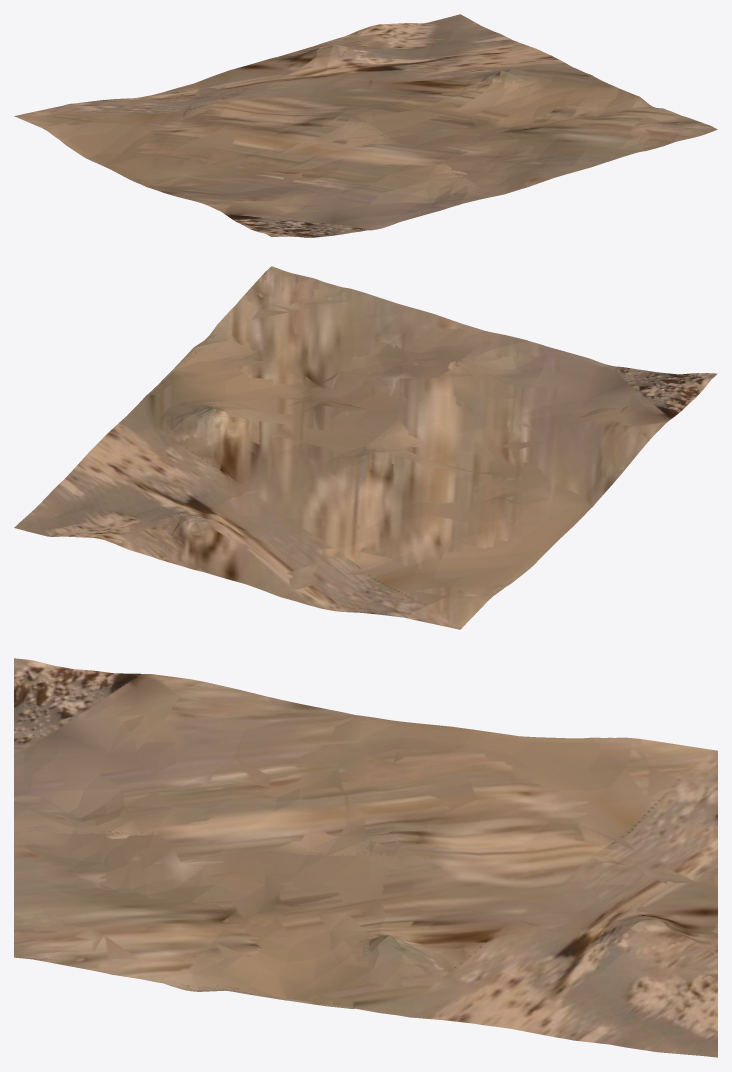
3 renders of one model, top to bottom at view 1: azimuth 30°, elevation 25°; view 2: azimuth 150°, elevation 25°; view 3: azimuth 270°, elevation 25°, orthographic. The views are drawn at different scales.
Bounding box in the file's own units: 2.09 × 0.3591 × 2.09.
2 materials, 2 textured.
